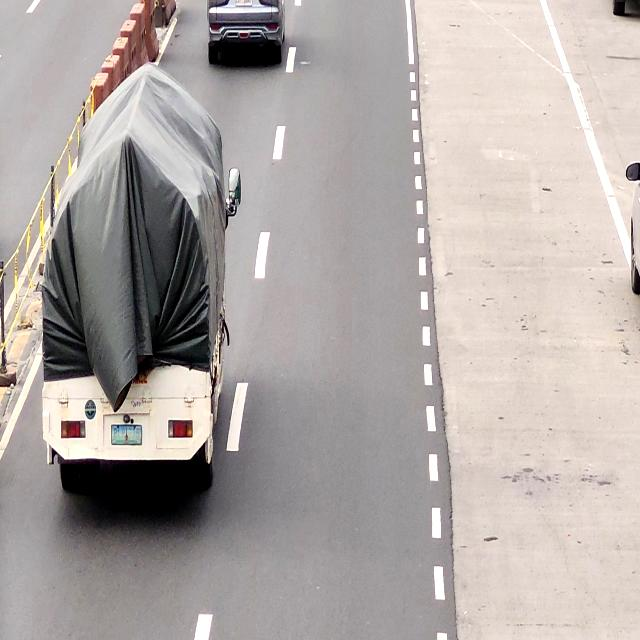Car: (208, 0, 284, 63)
License-Plate: (110, 422, 143, 446)
Truck: (50, 68, 224, 485)
